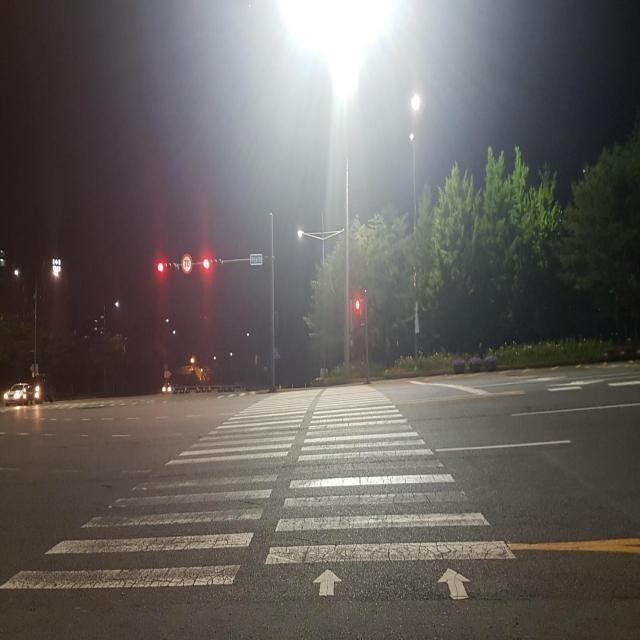빨간불: (352, 293, 366, 327)
횡단보도: (0, 380, 519, 604)
